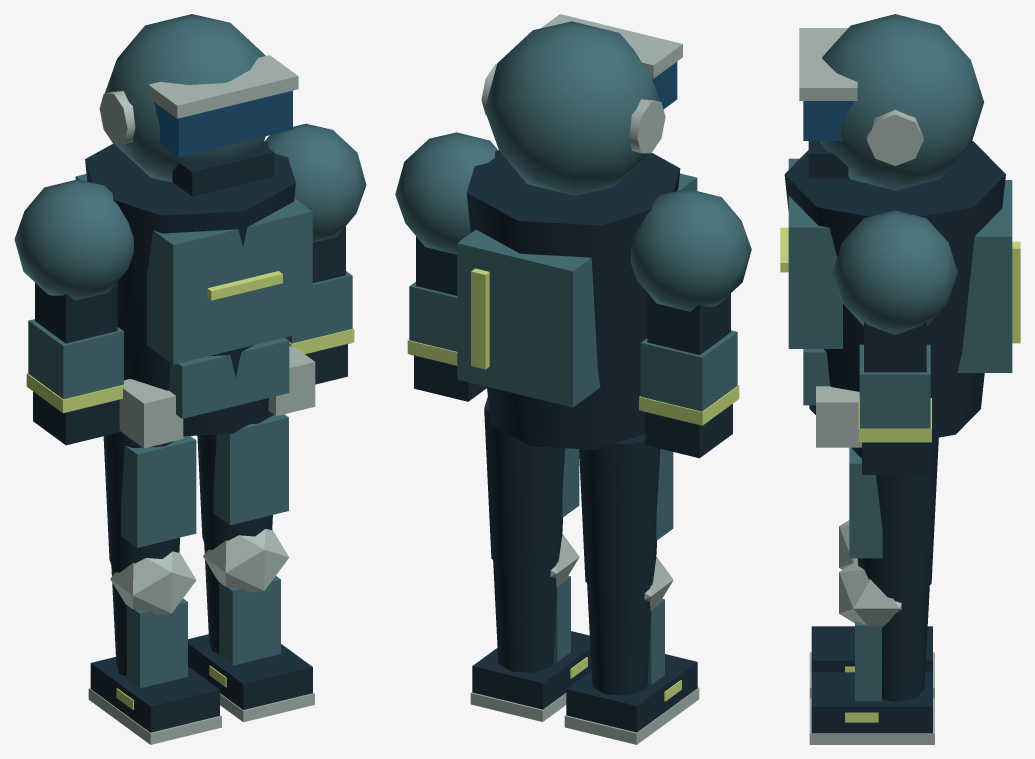
Rendered from ranger.glb.
3 views of the same model, side by side, from view 1: azimuth 30°, elevation 25°; view 2: azimuth 150°, elevation 25°; view 3: azimuth 270°, elevation 25° (orthographic).
Visible parts, largest first — view 1: chest, torso, helmet, shoulderL, thighPlateL, thighPlateR, shoulderR, abdomen, bracerL, bootL, visor, bootR (+23 smaller); view 2: torso, helmet, backpack, shoulderL, thighL, thighR, shoulderR, shinR, shinL, bracerL, bootL, bootR (+19 smaller); view 3: torso, helmet, shoulderR, thighR, backpack, chest, bootR, bracerR, shinR, visorBrow, thighPlateR, armR (+14 smaller).
Boxes of the visible parts, x1,y1,x2,y2 form: chest: [146, 198, 312, 364]; torso: [85, 141, 295, 436]; helmet: [105, 14, 265, 182]; shoulderL: [14, 179, 133, 300]; thighPlateL: [121, 436, 196, 547]; thighPlateR: [213, 414, 288, 525]; shoulderR: [265, 123, 366, 242]; abdomen: [169, 337, 289, 418]; bracerL: [28, 319, 123, 413]; bootL: [90, 657, 219, 732]; visor: [154, 90, 292, 157]; bootR: [188, 634, 312, 709]; torso: [466, 150, 680, 449]; helmet: [484, 21, 659, 195]; backpack: [457, 229, 600, 407]; shoulderL: [630, 189, 751, 311]; thighL: [579, 434, 660, 592]; thighR: [484, 397, 564, 569]; shoulderR: [395, 132, 497, 254]; shinR: [493, 560, 556, 672]; shinL: [587, 583, 650, 695]; bracerL: [640, 330, 737, 425]; bootL: [566, 654, 697, 732]; bootR: [472, 631, 591, 709]; torso: [784, 141, 1005, 438]; helmet: [820, 14, 984, 190]; shoulderR: [832, 210, 957, 334]; thighR: [852, 437, 938, 598]; backpack: [957, 180, 1012, 372]; chest: [788, 158, 842, 348]; bootR: [811, 672, 932, 733]; bracerR: [859, 344, 930, 442]; shinR: [882, 585, 929, 701]; visorBrow: [799, 28, 857, 100]; thighPlateR: [849, 447, 882, 558]; armR: [864, 321, 926, 372].
Bounding box in the file's own units: 0.94 × 1.8 × 0.575.
